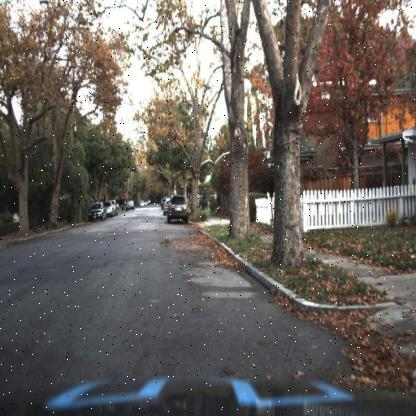car: (166, 188, 191, 224), (86, 201, 107, 224), (161, 194, 175, 219), (161, 194, 172, 222), (106, 199, 114, 219), (126, 200, 136, 214)
